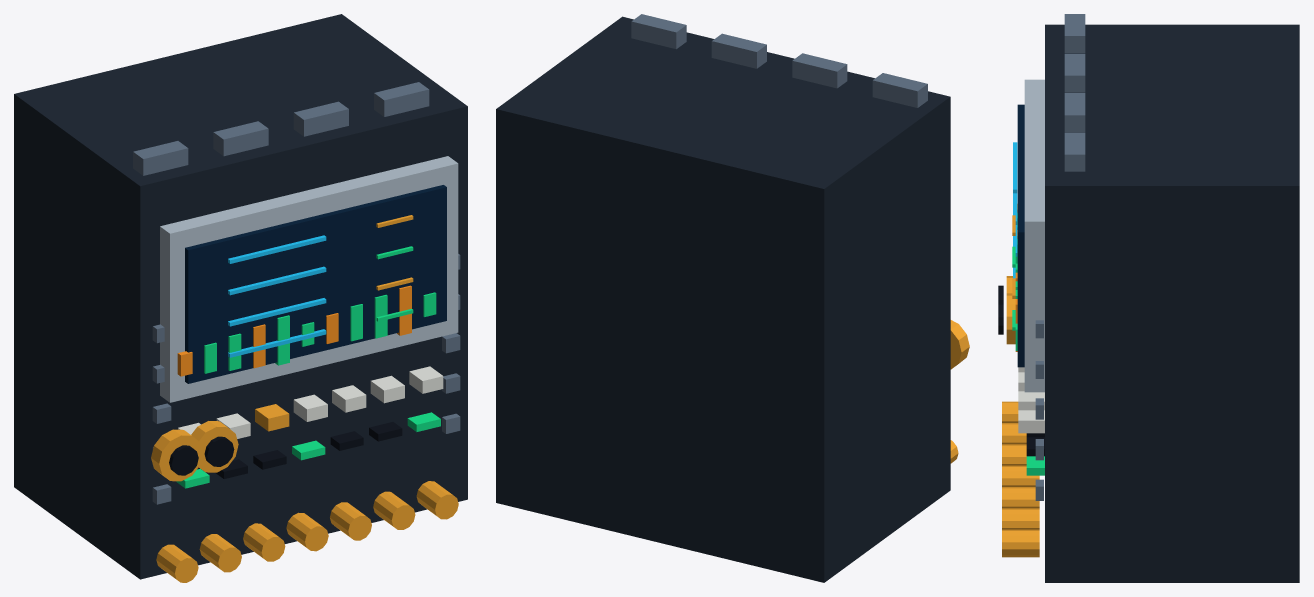
The model's file is 36_L87_MotorPhaseCurrentSensor.fbx.
3 renders of one model, left to right at view 1: azimuth 30°, elevation 25°; view 2: azimuth 150°, elevation 25°; view 3: azimuth 270°, elevation 25°, orthographic.
Parts seen in each view (by area): view 1: L87_MotorPhaseCurrentSensor, L87_MotorPhaseCurrentSensor_Part_0010, L87_MotorPhaseCurrentSensor_Part_0012, L87_MotorPhaseCurrentSensor_Part_0011, L87_MotorPhaseCurrentSensor_Part_0013; view 2: L87_MotorPhaseCurrentSensor, L87_MotorPhaseCurrentSensor_Part_0010; view 3: L87_MotorPhaseCurrentSensor, L87_MotorPhaseCurrentSensor_Part_0012.
Part boxes in pixels (box(x1,y1,x2,y2)): L87_MotorPhaseCurrentSensor: box(14, 14, 467, 582); L87_MotorPhaseCurrentSensor_Part_0010: box(151, 429, 202, 481); L87_MotorPhaseCurrentSensor_Part_0012: box(191, 421, 238, 472); L87_MotorPhaseCurrentSensor_Part_0011: box(169, 445, 198, 475); L87_MotorPhaseCurrentSensor_Part_0013: box(204, 436, 234, 466); L87_MotorPhaseCurrentSensor: box(496, 14, 958, 582); L87_MotorPhaseCurrentSensor_Part_0010: box(950, 320, 969, 369); L87_MotorPhaseCurrentSensor: box(1002, 14, 1299, 582); L87_MotorPhaseCurrentSensor_Part_0012: box(1006, 293, 1015, 344).
Size of the model in its own units: 96.95 by 116 by 76.5.
